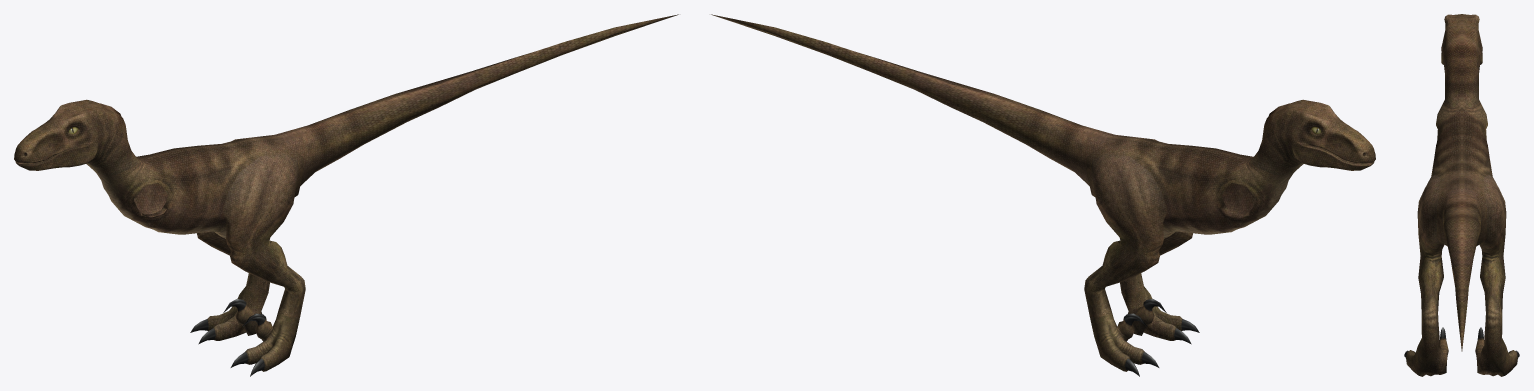
Rendered from VeloCu.obj.
The picture shows the model from 3 angles, left to right: view 1: azimuth 30°, elevation 25°; view 2: azimuth 150°, elevation 25°; view 3: azimuth 270°, elevation 25°; orthographic projection. The views are drawn at different scales.
Visible parts, largest first — view 1: null_; view 2: null_; view 3: null_.
Boxes of the visible parts, bbox=[...] form: null_: bbox=[14, 14, 678, 376]; null_: bbox=[711, 14, 1375, 376]; null_: bbox=[1404, 14, 1519, 376].
Bounding box in the file's own units: 6.42 × 2.61 × 1.
1 material, 1 textured.
